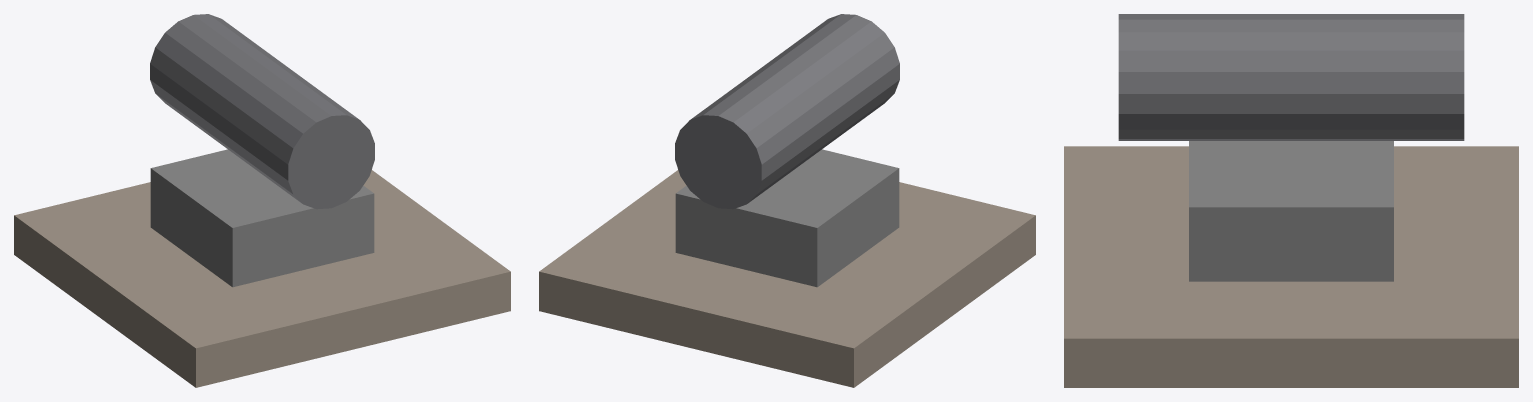
File: cannon.glb
3 views of the same model, side by side, from view 1: azimuth 30°, elevation 25°; view 2: azimuth 150°, elevation 25°; view 3: azimuth 270°, elevation 25° (orthographic). The views are drawn at different scales.
Visible parts, largest first — view 1: g0, g1, g2; view 2: g0, g1, g2; view 3: g0, g1, g2.
Part boxes in pixels (x1,y1,x2,y2): g0: (14,170,510,387); g1: (150,14,374,209); g2: (150,149,374,287); g0: (539,170,1035,387); g1: (675,14,899,209); g2: (675,149,899,287); g0: (1064,146,1518,387); g1: (1118,14,1464,140); g2: (1189,141,1393,281).
Bounding box in the file's own units: 1 × 0.66 × 1.
